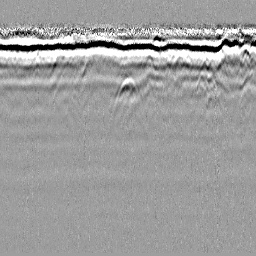cavity: (109, 74, 146, 121)
